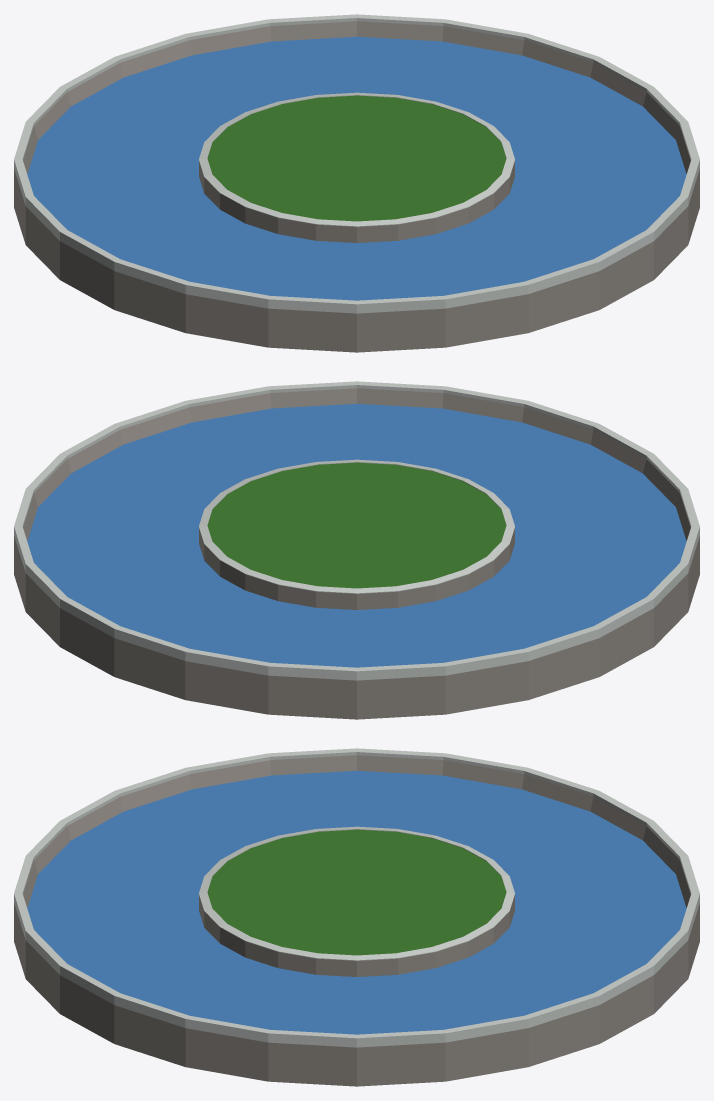
File: Lake_1.fbx
The picture shows the model from 3 angles, top to bottom: view 1: azimuth 30°, elevation 25°; view 2: azimuth 150°, elevation 25°; view 3: azimuth 270°, elevation 25°; orthographic projection.
Visible parts, largest first — view 1: Lake_1; view 2: Lake_1; view 3: Lake_1.
Part boxes in pixels (<box>): Lake_1: <box>14,14,699,352</box>; Lake_1: <box>14,381,699,719</box>; Lake_1: <box>14,748,699,1086</box>.
Size of the model in its own units: 1238 by 98.38 by 1238.
